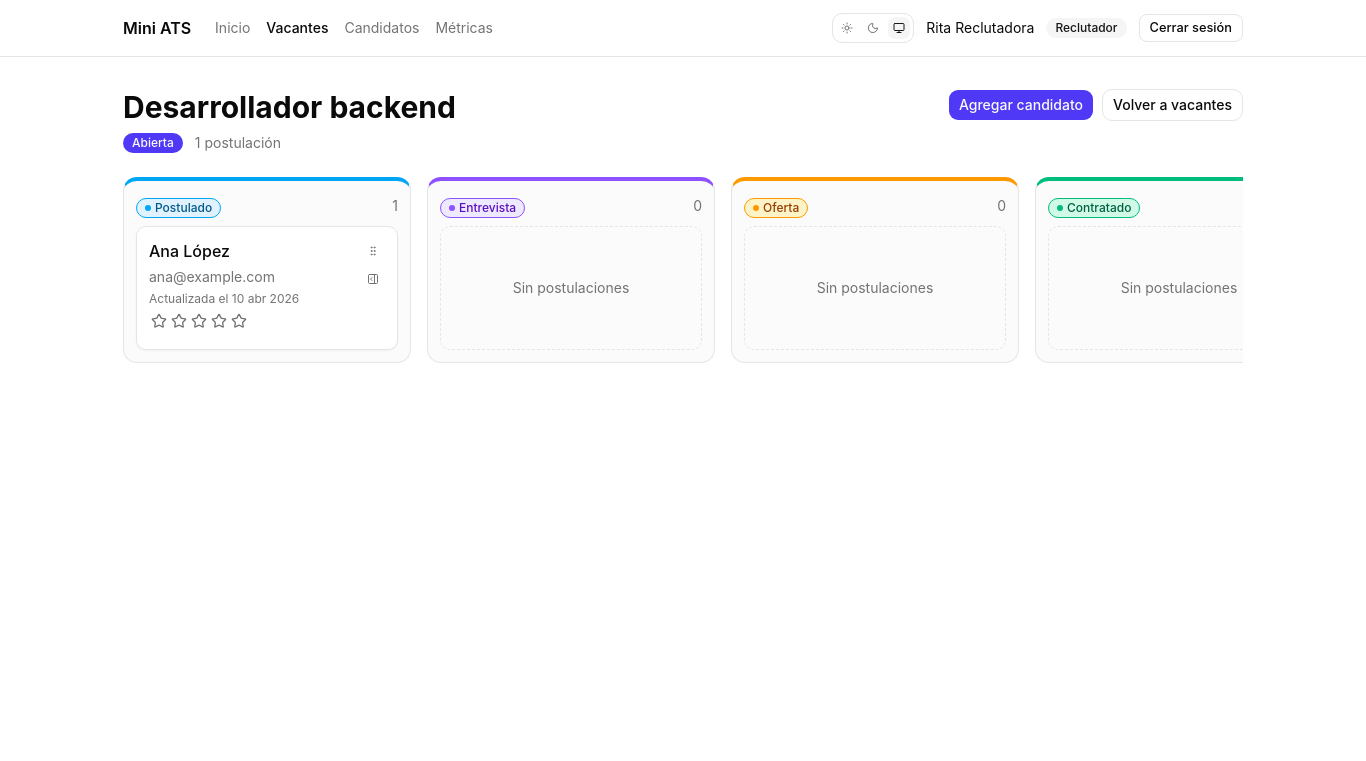
it: HistorySection in the application panel › reloads after a move of that application and shows the new stage
Step 1. Click the button named "Ver detalle de la postulación de Ana López" → [373, 279], box [361, 267, 385, 291]
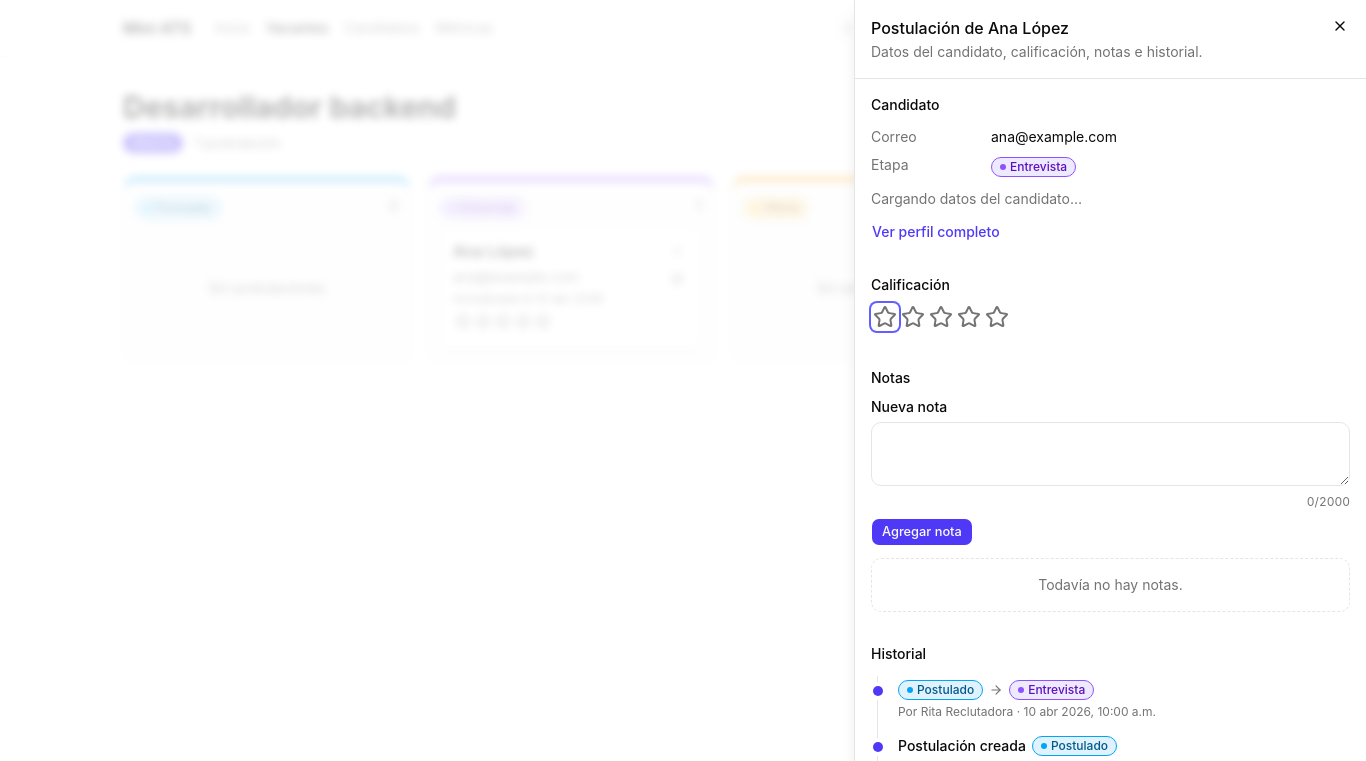
Now the text "Postulación creada" is shown, box [898, 736, 1026, 756]
Now the text "Postulado" is shown, box [898, 680, 983, 700]
Now the text "Entrevista" is shown, box [991, 157, 1076, 177]
